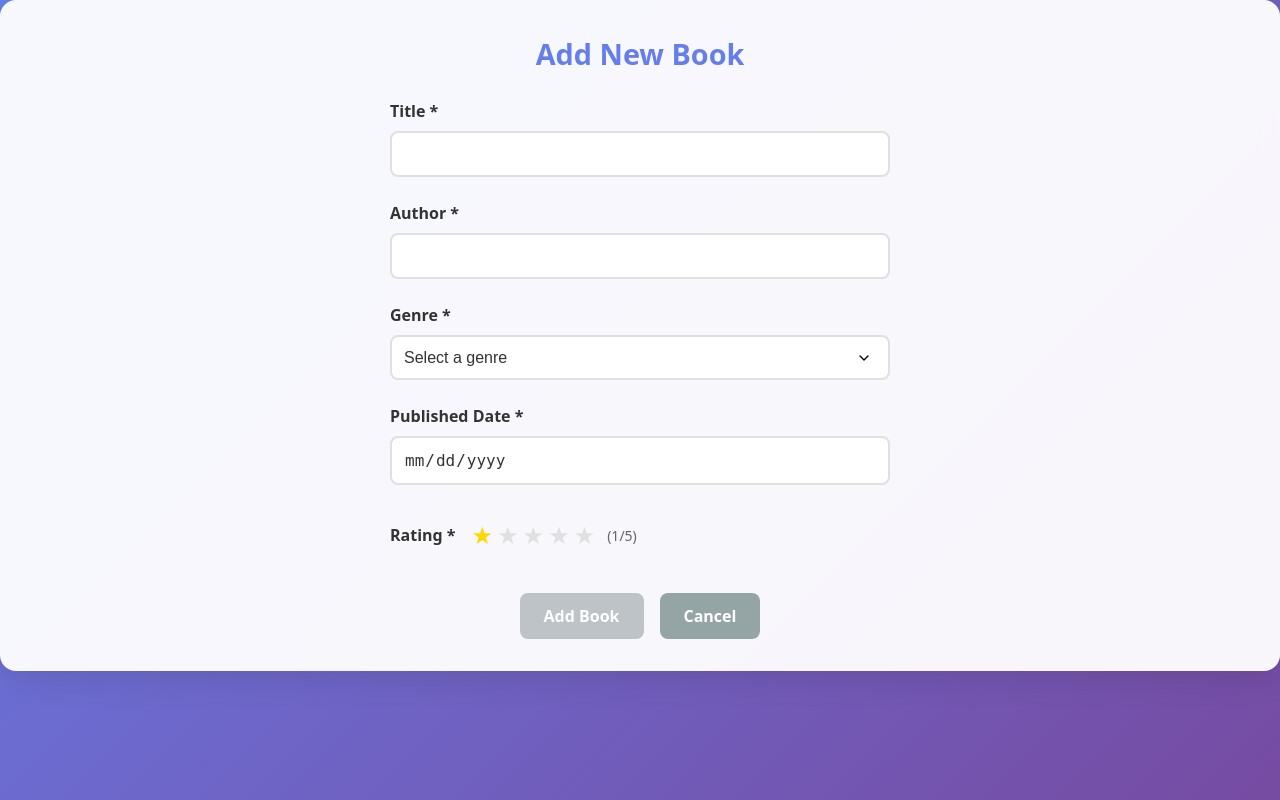
it: BookForm › validates author name format
In the field labelled "Author *": [640, 256] box [390, 233, 890, 279], type "Author123"
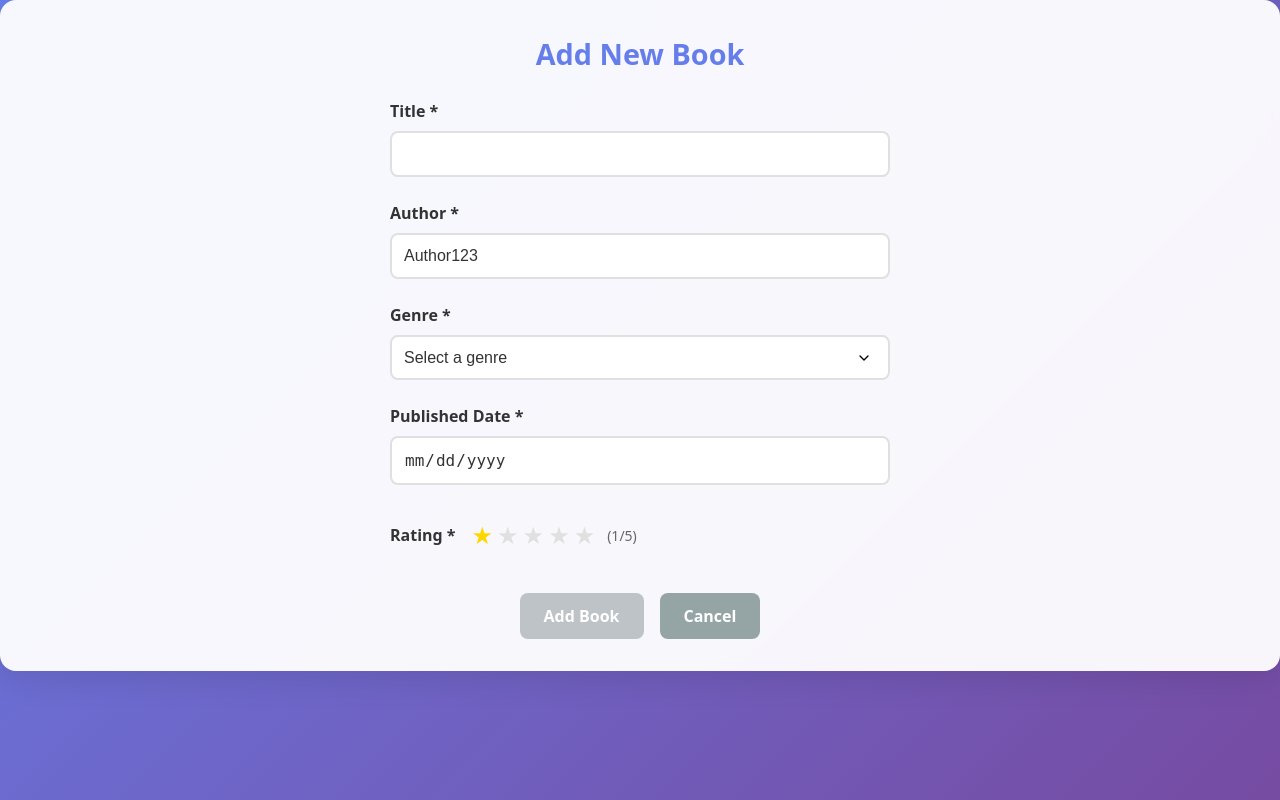
Leave the field labelled "Author *", box [390, 233, 890, 279]
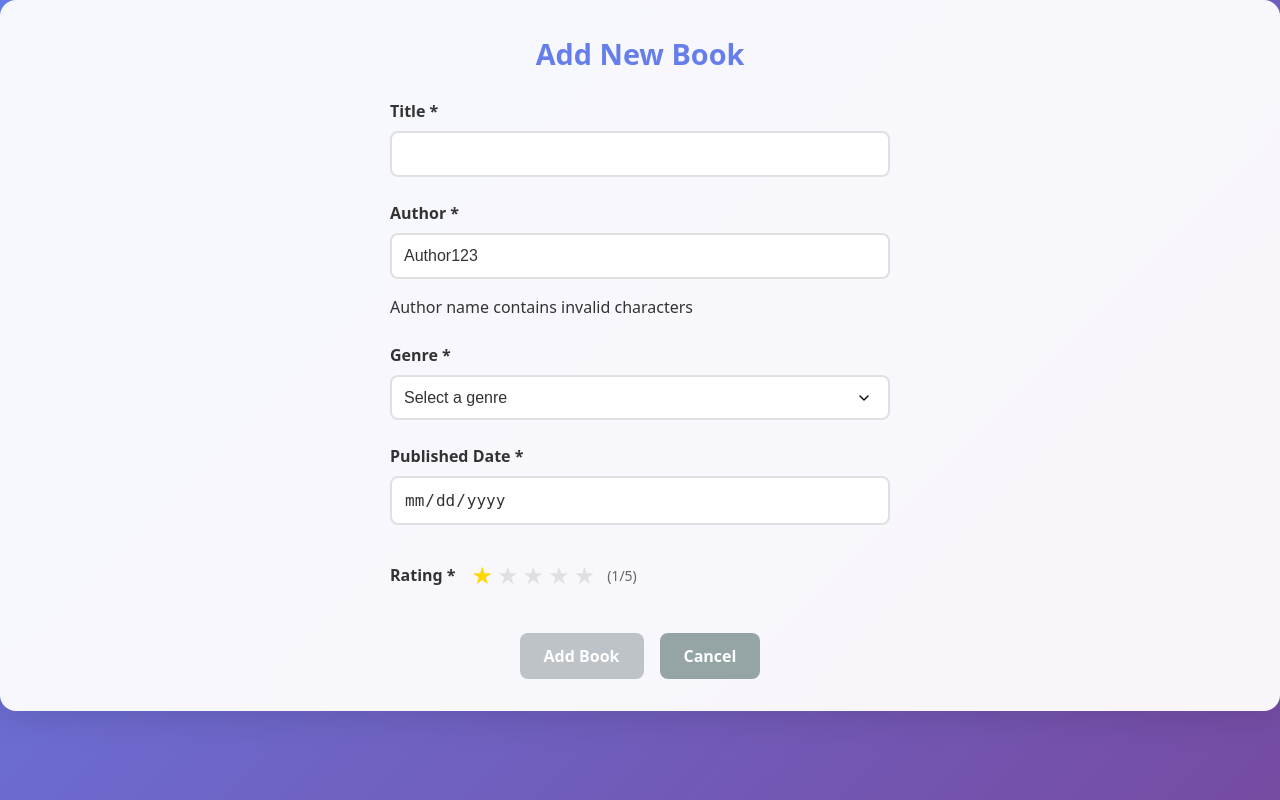
Expected: the text "Author name contains invalid characters" is shown, [390, 296, 693, 318]
